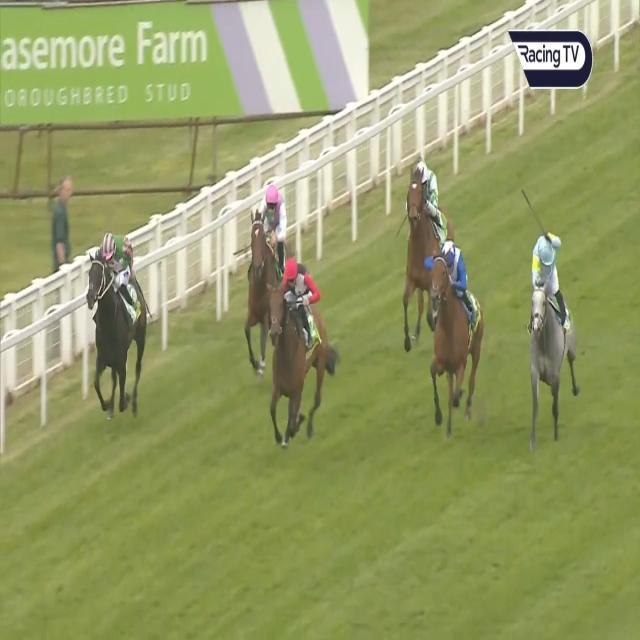horses-racing: (266, 255, 328, 454), (89, 229, 151, 418), (528, 220, 578, 453), (434, 242, 486, 426), (403, 152, 452, 294), (247, 185, 284, 339)
